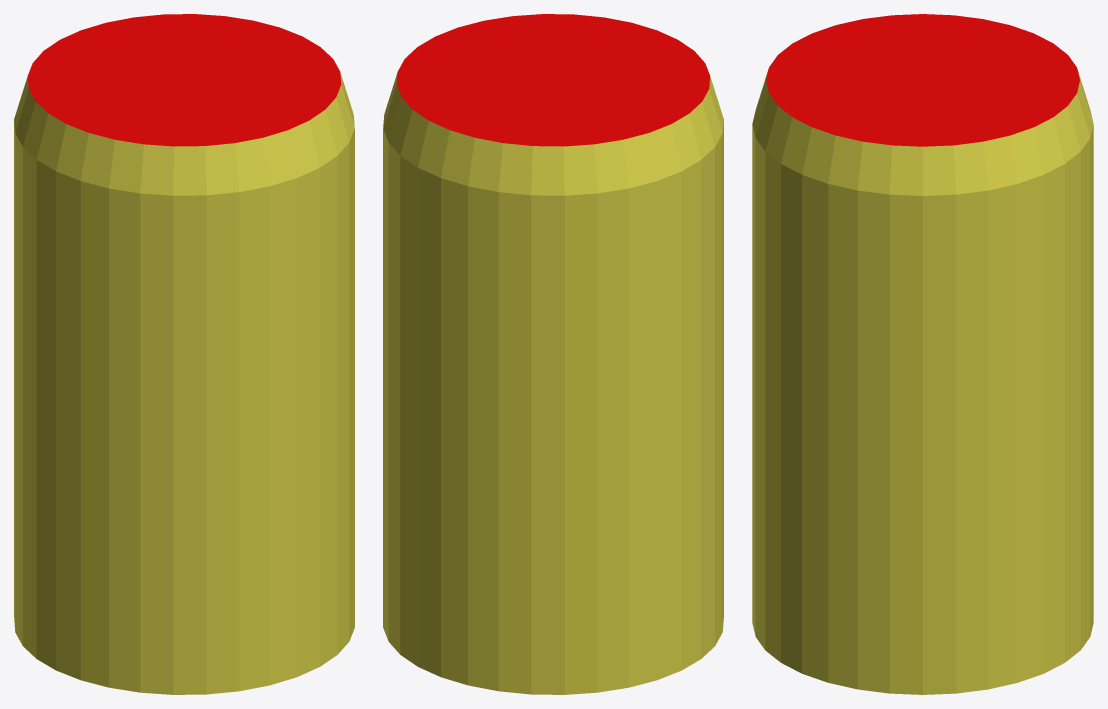
Rendered from Podium1st.fbx.
The picture shows the model from 3 angles, left to right: view 1: azimuth 30°, elevation 25°; view 2: azimuth 150°, elevation 25°; view 3: azimuth 270°, elevation 25°; orthographic projection.
Parts seen in each view (by area): view 1: Circle; view 2: Circle; view 3: Circle.
Part boxes in pixels (x1,y1,x2,y2): Circle: [14, 14, 354, 694]; Circle: [383, 14, 723, 694]; Circle: [752, 14, 1093, 694].
Bounding box in the file's own units: 817 × 1432 × 817.
